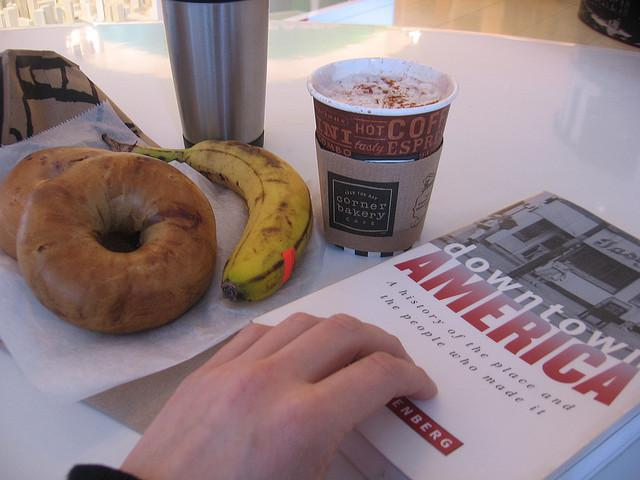hand: (118, 318, 440, 476)
